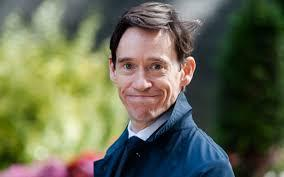Persons: (100, 4, 205, 123)
